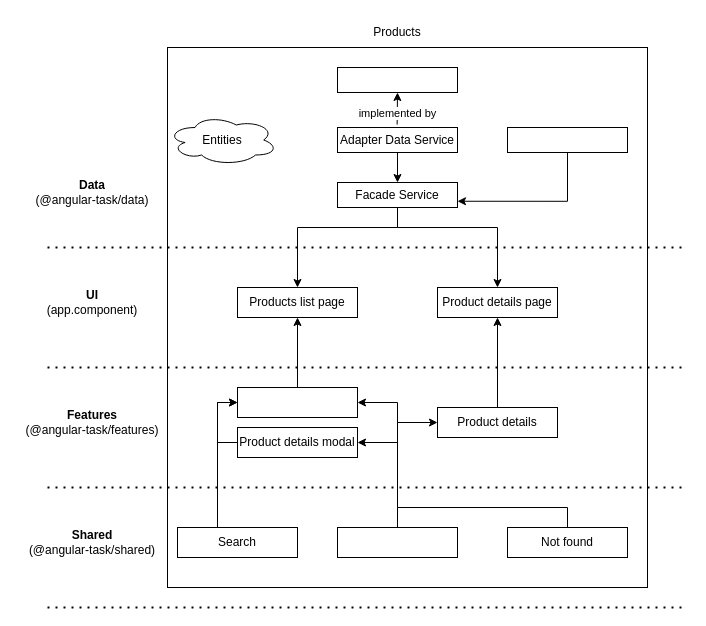
This 706x626 diagram has some shape labels left out. Each missing label, with the box of its shape:
Data Service: (336, 66, 458, 92)
Product card: (336, 526, 458, 558)
Products list: (236, 386, 358, 418)
Store: (506, 126, 628, 152)
